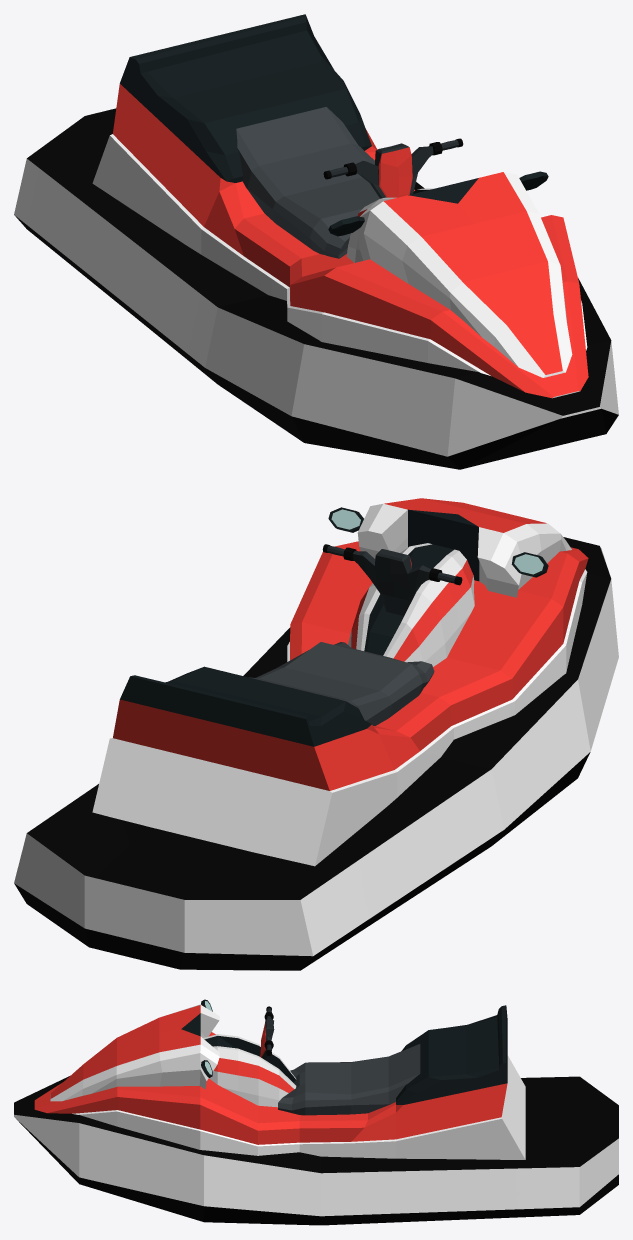
Rendered from Water_scooter_01.fbx.
The picture shows the model from 3 angles, top to bottom: view 1: azimuth 30°, elevation 25°; view 2: azimuth 150°, elevation 25°; view 3: azimuth 270°, elevation 25°; orthographic projection. The views are drawn at different scales.
Visible parts, largest first — view 1: Water_scooter_01; view 2: Water_scooter_01; view 3: Water_scooter_01.
Boxes of the visible parts, box(x1,y1,x2,y2) form: Water_scooter_01: box(14, 14, 618, 469); Water_scooter_01: box(14, 498, 618, 970); Water_scooter_01: box(14, 999, 618, 1225).
Size of the model in its own units: 130 by 96.42 by 336.
